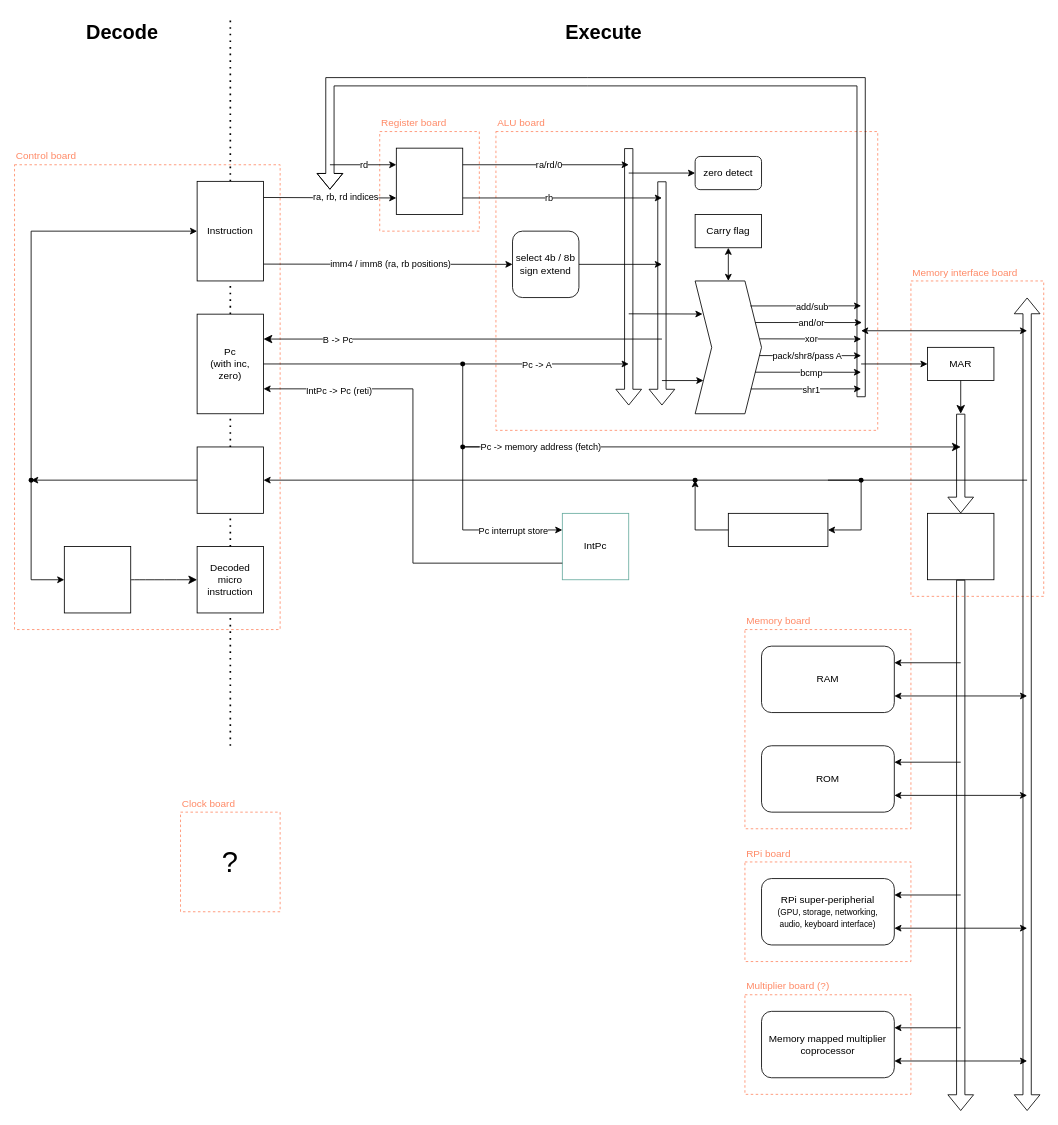
The diagram is 1058 pixels wide and 1125 high, and some of its shapes have lost their labels. The shapes that lost their labels are listed below. From the top down, each one's centre as x and y in pixels, then its label:
At (x=429, y=181): "r0..r15".
At (x=728, y=347): "ALU".
At (x=230, y=479): "Next instruction".
At (x=777, y=530): "Instruction buffer (for ld/st)".
At (x=960, y=546): "MMU".
At (x=97, y=579): "Microcode ROM".
